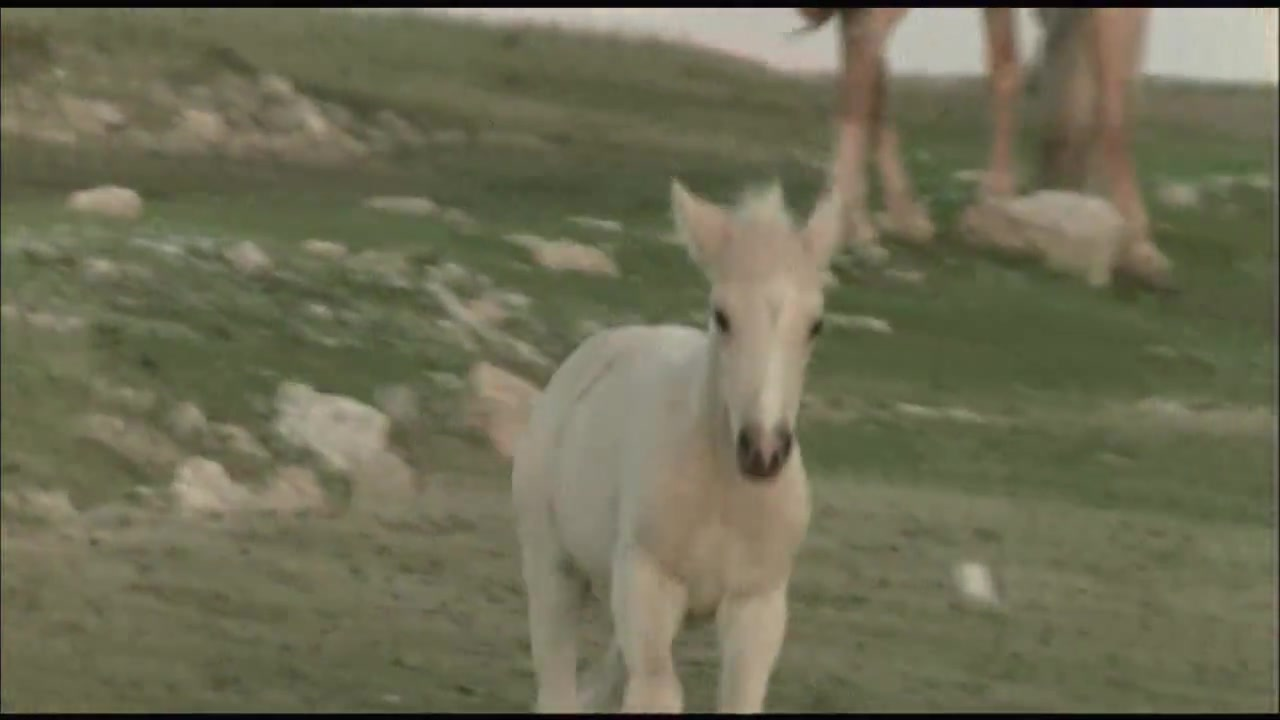horse: (511, 178, 844, 714)
